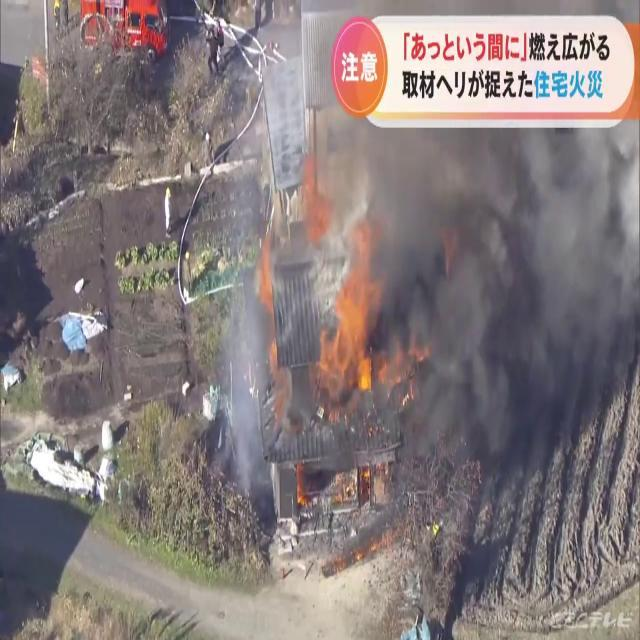Fire: (312, 218, 384, 406)
Smoke: (358, 114, 640, 522), (218, 270, 276, 483)
